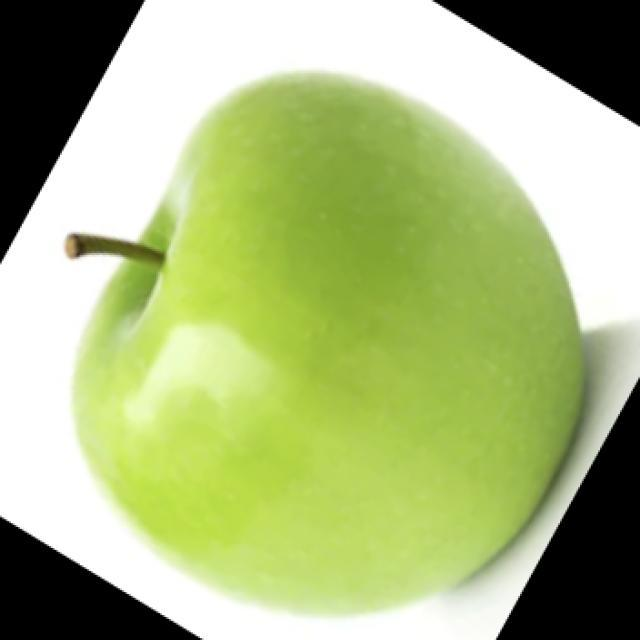Fresh Apple: (105, 88, 598, 602)
